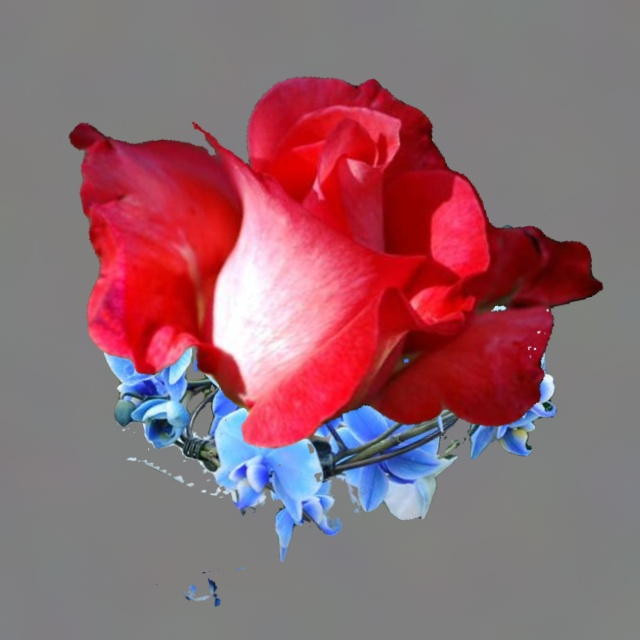daisy: (478, 225, 515, 297)
orchid: (103, 240, 566, 605)
rose: (68, 77, 602, 448)
